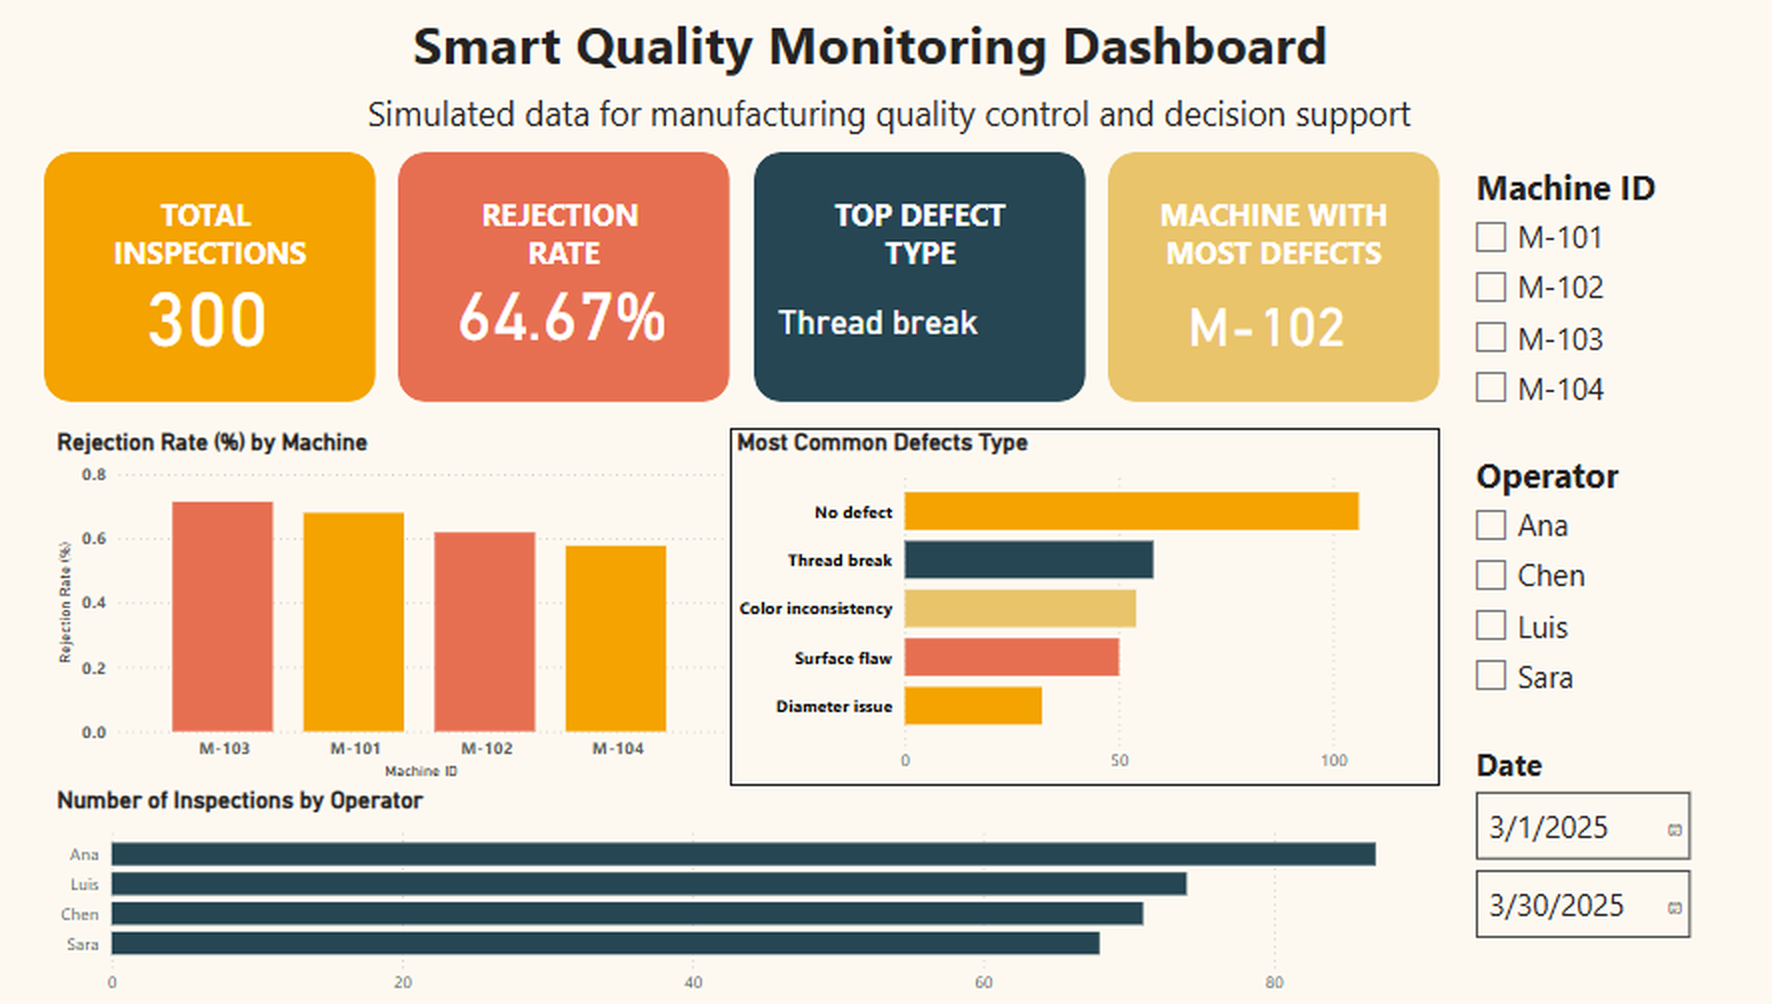

Layout of this report page (visuals, bound fields, positions):
{"tool":"powerbi","page":{"name":"Page 1","canvas":[1280,720],"ordinal":0},"visuals":[{"type":"textbox","box":[293.9,0,690.8,59.1],"z":0},{"type":"textbox","box":[233.5,59.1,813,49.4],"z":1000},{"type":"shape","box":[35.7,108.6,237.1,178.6],"z":2000},{"type":"shape","box":[795.7,108.6,237.1,178.6],"z":7000},{"type":"shape","box":[542.9,108.6,237.1,178.6],"z":8000},{"type":"shape","box":[288.6,108.6,237.1,178.6],"z":9000},{"type":"textbox","box":[62.9,132.9,182.9,75.7],"z":10000},{"type":"cardVisual","fields":{"Data":["simulated_quality_data.Result"]},"box":[91.4,171.4,125.7,88.6],"z":11000},{"type":"textbox","box":[315.7,132.9,182.9,75.7],"z":12000},{"type":"textbox","box":[570,132.9,182.9,75.7],"z":13000},{"type":"textbox","box":[814.3,132.9,200,75.7],"z":14000},{"type":"cardVisual","fields":{"Data":["simulated_quality_data.Rejection Rate (%)"]},"box":[312.9,171.4,188.6,100],"z":15000},{"type":"cardVisual","fields":{"Data":["simulated_quality_data.Top Defect Type"]},"box":[542.9,180,271.4,91.4],"z":16000},{"type":"cardVisual","fields":{"Data":["simulated_quality_data.Machine with Most Defects"]},"box":[835.7,185.7,155.7,71.4],"z":16001},{"type":"slicer","fields":{"Values":["simulated_quality_data.Machine ID"]},"box":[1045.7,111.4,217.1,194.3],"z":16002},{"type":"slicer","fields":{"Values":["simulated_quality_data.Operator"]},"box":[1045.7,317.1,217.1,194.3],"z":16003},{"type":"slicer","fields":{"Values":["simulated_quality_data.Inspection DateTime"]},"box":[1045.7,525.7,217.1,160],"z":16004},{"type":"columnChart","title":"Rejection Rate (%) by Machine ","fields":{"Category":["simulated_quality_data.Machine ID"],"Y":["simulated_quality_data.Rejection Rate (%)"]},"box":[40,305.7,485.7,255.7],"z":16005},{"type":"barChart","title":"Most Common Defects Type","fields":{"Y":["simulated_quality_data.Defect Type"],"Category":["simulated_quality_data.Defect Type"]},"box":[525.7,305.7,507.1,255.7],"z":16006},{"type":"clusteredBarChart","title":"Number of Inspections by Operator","fields":{"Category":["simulated_quality_data.Operator"],"Y":["simulated_quality_data.Inspection DateTime"]},"box":[40,561.4,990,158.6],"z":16007}]}

Visuals, with their boxes in screenshot pixels (x1, y1, x2, y2), scaled from the page's 1280x720 canvas onto the 1772x1004 screenshot:
textbox: (x1=407, y1=0, x2=1363, y2=82)
textbox: (x1=323, y1=82, x2=1449, y2=151)
shape: (x1=49, y1=151, x2=378, y2=400)
shape: (x1=1102, y1=151, x2=1430, y2=400)
shape: (x1=752, y1=151, x2=1080, y2=400)
shape: (x1=400, y1=151, x2=728, y2=400)
textbox: (x1=87, y1=185, x2=340, y2=291)
cardVisual - simulated_quality_data.Result: (x1=127, y1=239, x2=301, y2=363)
textbox: (x1=437, y1=185, x2=690, y2=291)
textbox: (x1=789, y1=185, x2=1042, y2=291)
textbox: (x1=1127, y1=185, x2=1404, y2=291)
cardVisual - simulated_quality_data.Rejection Rate (%): (x1=433, y1=239, x2=694, y2=378)
cardVisual - simulated_quality_data.Top Defect Type: (x1=752, y1=251, x2=1127, y2=378)
cardVisual - simulated_quality_data.Machine with Most Defects: (x1=1157, y1=259, x2=1372, y2=359)
slicer - simulated_quality_data.Machine ID: (x1=1448, y1=155, x2=1748, y2=426)
slicer - simulated_quality_data.Operator: (x1=1448, y1=442, x2=1748, y2=713)
slicer - simulated_quality_data.Inspection DateTime: (x1=1448, y1=733, x2=1748, y2=956)
"Rejection Rate (%) by Machine " columnChart: (x1=55, y1=426, x2=728, y2=783)
"Most Common Defects Type" barChart: (x1=728, y1=426, x2=1430, y2=783)
"Number of Inspections by Operator" clusteredBarChart: (x1=55, y1=783, x2=1426, y2=1003)
